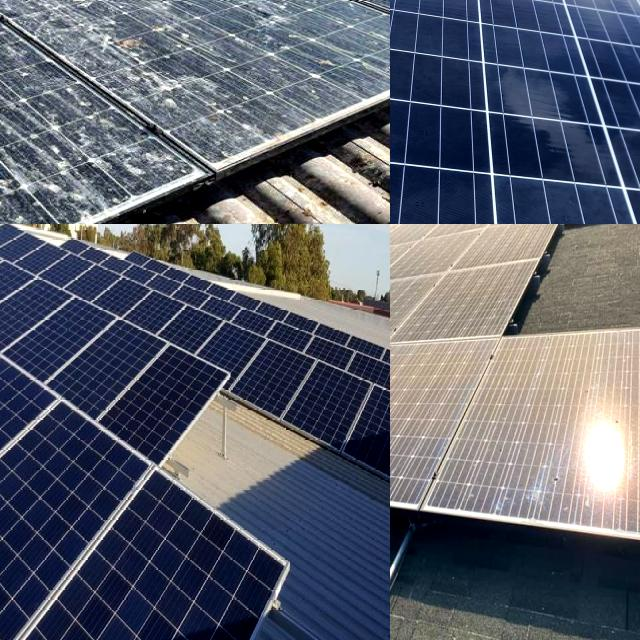bird: (0, 133, 98, 205), (12, 0, 133, 47), (0, 153, 55, 224), (0, 19, 45, 74), (218, 0, 284, 36)
crack: (390, 0, 640, 224), (0, 473, 296, 640), (0, 370, 153, 640), (0, 329, 129, 600), (86, 297, 232, 493), (51, 286, 167, 446), (232, 318, 308, 461), (283, 346, 367, 469), (345, 374, 390, 531)
dust: (502, 332, 640, 538), (390, 345, 485, 501), (390, 355, 453, 462), (390, 346, 432, 476), (445, 224, 549, 266), (441, 264, 502, 330), (390, 305, 465, 344), (390, 374, 419, 458), (390, 224, 434, 274), (390, 296, 435, 344), (390, 250, 424, 292), (585, 224, 640, 244), (390, 265, 415, 303), (390, 323, 406, 354)
